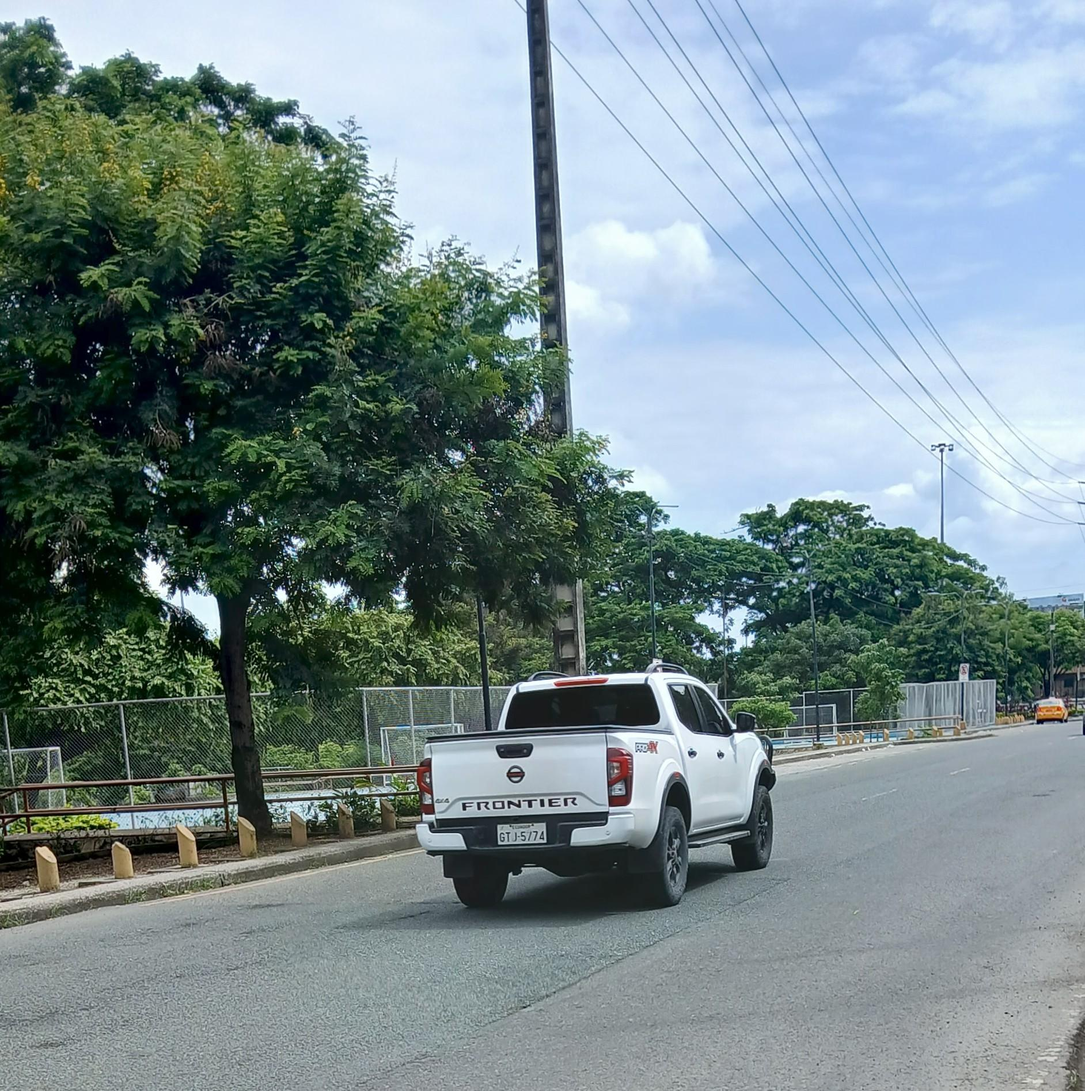license_plate: (495, 823, 546, 844)
